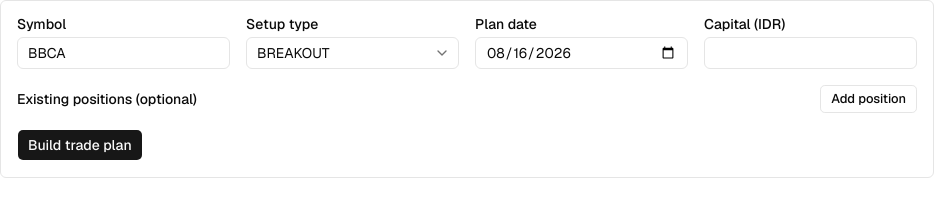
Scenario: TradePlanForm › rejects a non-positive capital value (0), same as blank
Step 1. Type "0" into the number field labelled "Capital (IDR)" → coordinates (810, 53), box [704,37,917,69]
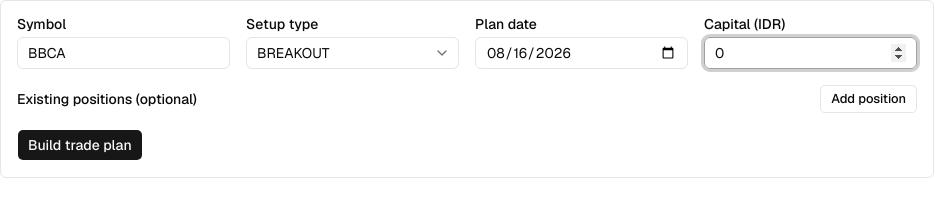
Step 2. Click the button "Build trade plan" → coordinates (80, 145), box [17,129,143,161]
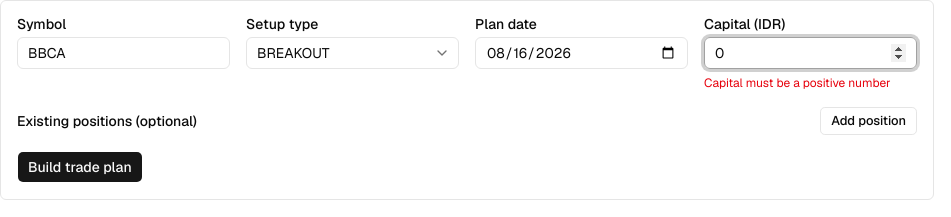
Expected: the text "Capital must be a positive number" is shown, [704,75,917,91]
